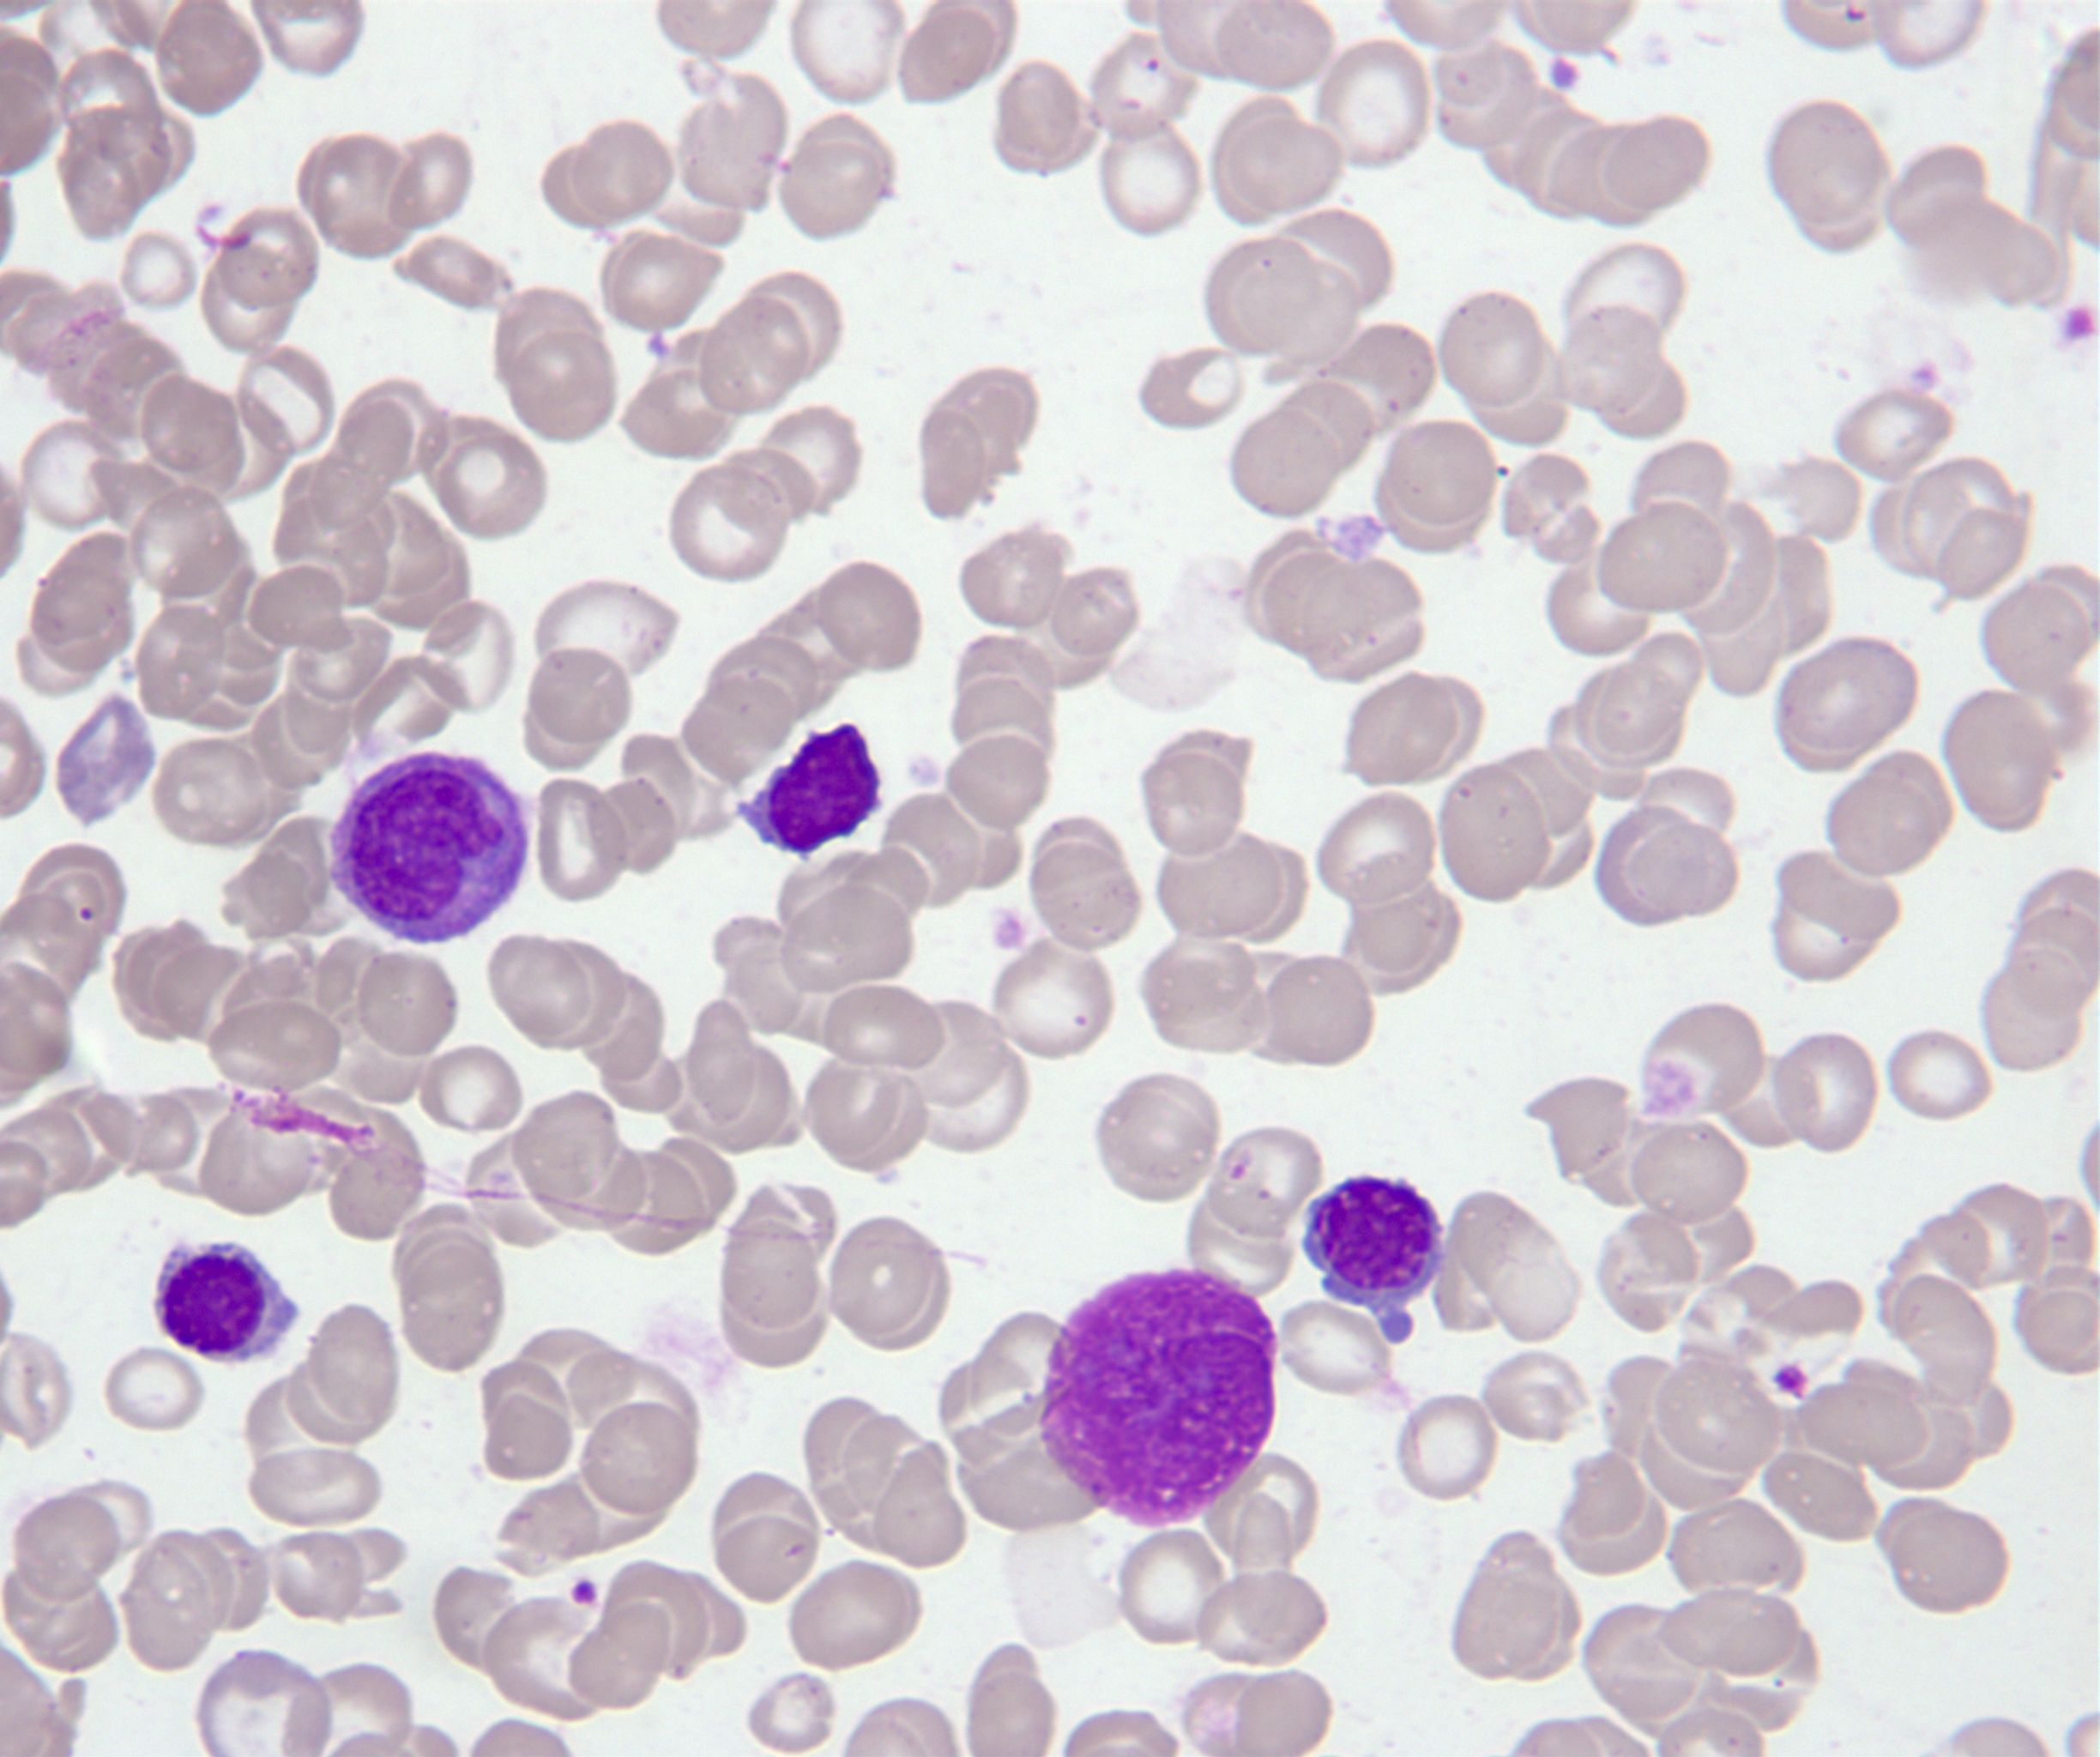24: (1303, 1178, 1439, 1345), (155, 1242, 297, 1364)
32: (734, 724, 877, 851)
42: (328, 754, 527, 942)
x: (1041, 1268, 1278, 1530)
